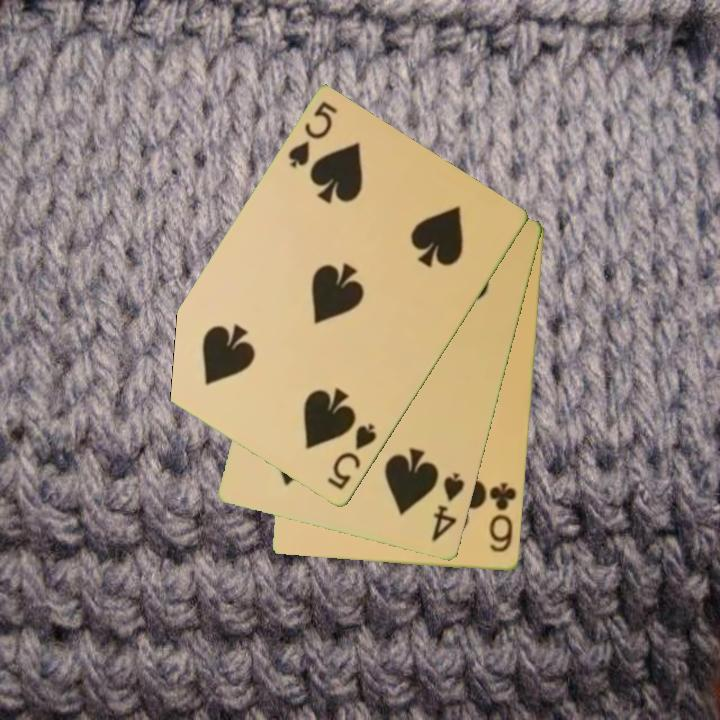4s: (428, 469, 468, 545)
5s: (284, 98, 341, 172), (323, 420, 380, 493)
6c: (486, 479, 520, 556)
